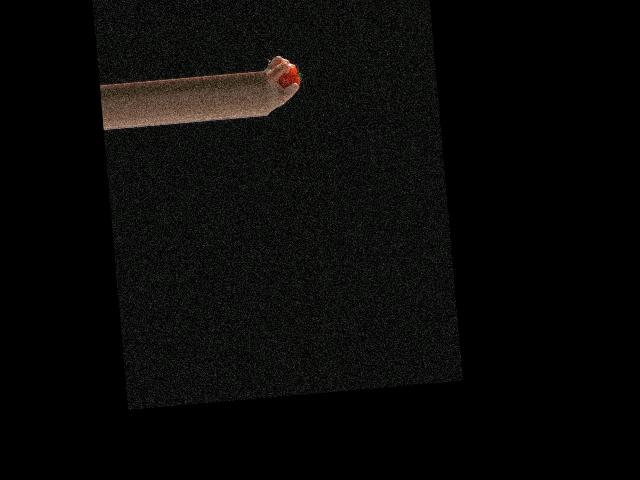tomato: (277, 63, 300, 88)
